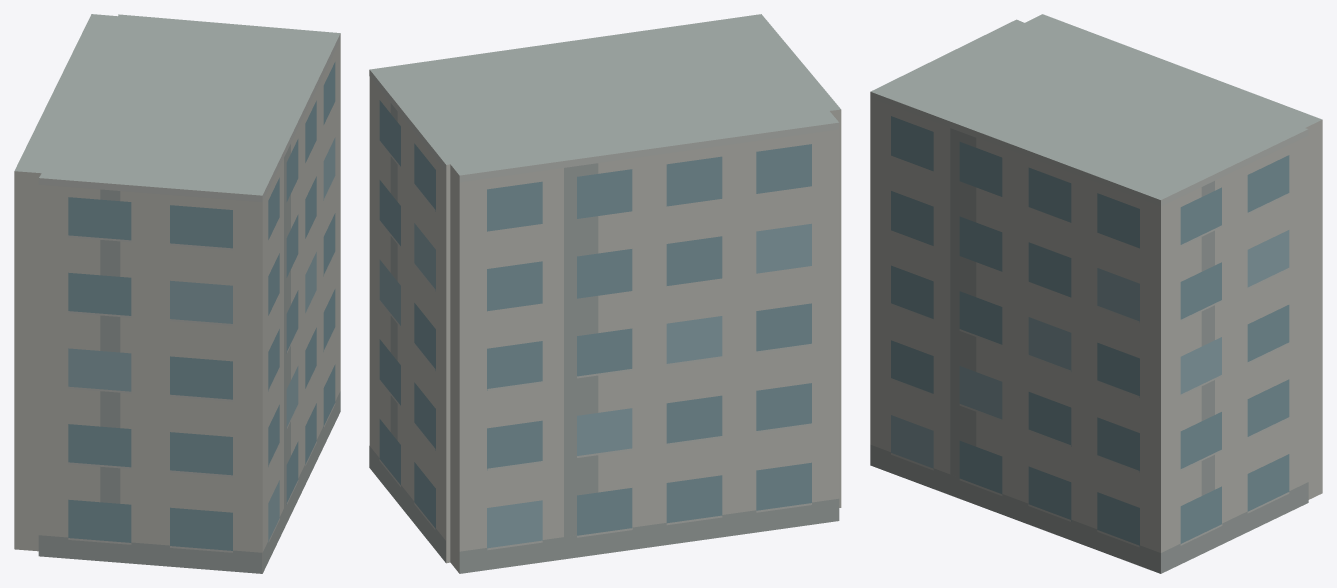
File: survey-upis-32523868.glb
3 renders of one model, left to right at view 1: azimuth 30°, elevation 25°; view 2: azimuth 150°, elevation 25°; view 3: azimuth 270°, elevation 25°, orthographic. The views are drawn at different scales.
Visible parts, largest first — view 1: survey-upis-32523868.tmp; view 2: survey-upis-32523868.tmp; view 3: survey-upis-32523868.tmp.
Part boxes in pixels (x1=…): survey-upis-32523868.tmp: x1=14, y1=14, x2=340, y2=573; survey-upis-32523868.tmp: x1=369, y1=14, x2=841, y2=573; survey-upis-32523868.tmp: x1=870, y1=14, x2=1322, y2=573.
Size of the model in its own units: 14.97 by 14 by 15.36.
